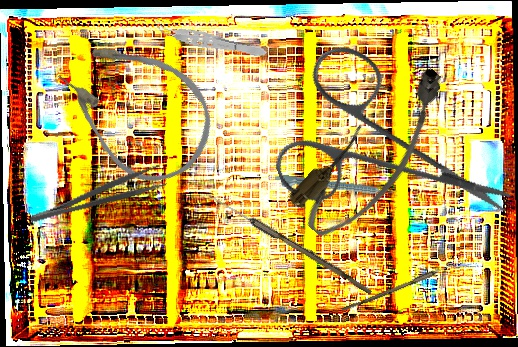Cannula: (38, 11, 234, 203), (282, 57, 471, 249)
Dressing Forceps: (25, 163, 168, 226)
Handpiece: (273, 173, 394, 202)
Iris Scissors: (243, 8, 516, 283)
Surgical Spoon: (206, 192, 375, 295), (341, 255, 468, 315)
Tissue Forceps: (149, 17, 270, 63)
